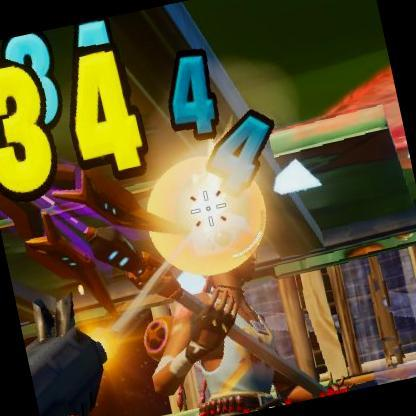person: (196, 244, 284, 414)
